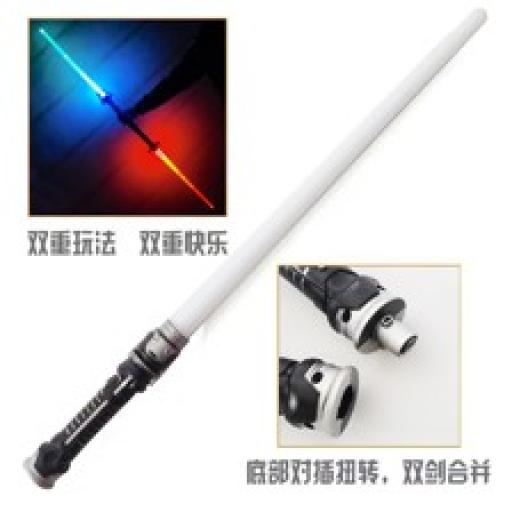lightsaber: (30, 10, 496, 488)
